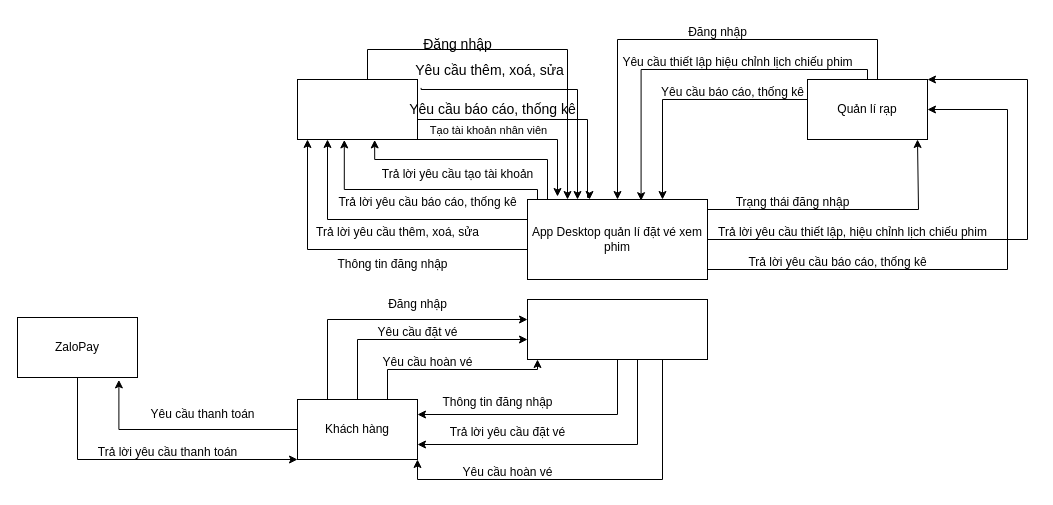
The diagram is 1053 pixels wide and 505 high, and some of its shapes have lost their labels. Here are the shapes that lost their labels. From the top down, the centre of each, then its label:
At (357,109): "Chủ rạp".
At (617,329): "App android đặt vé xem phim online".
